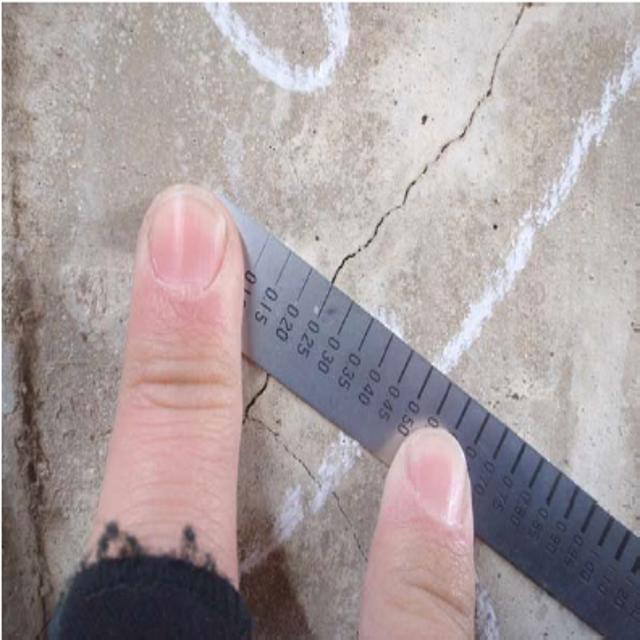crack: (300, 2, 559, 304), (233, 373, 371, 597)
